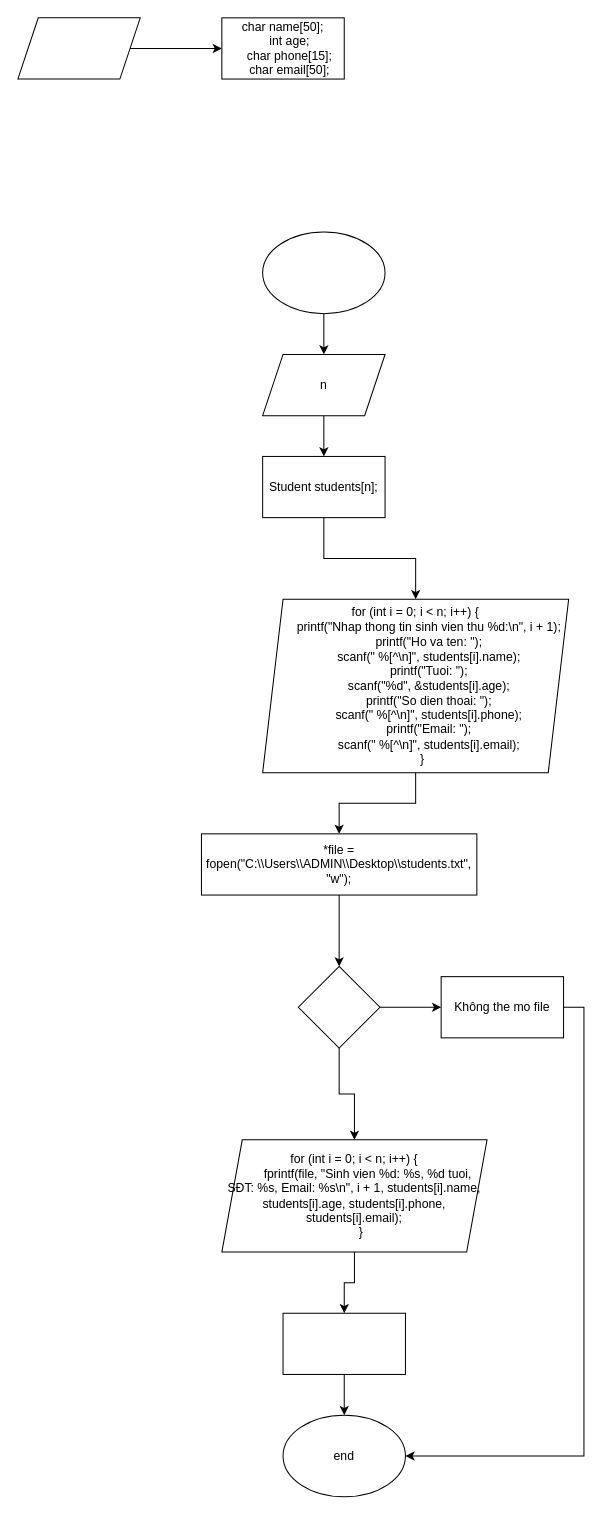
The diagram is 610 pixels wide and 1515 high, and some of its shapes have lost their labels. The shapes that lost their labels are listed below. From the top down, each one's box as (x1, y1, x2, y2) in pixels, then its label:
(17, 17, 140, 79): typedef struct Student
(262, 231, 385, 314): start
(297, 965, 380, 1048): file == NULL
(282, 1312, 405, 1374): fclose(file);
